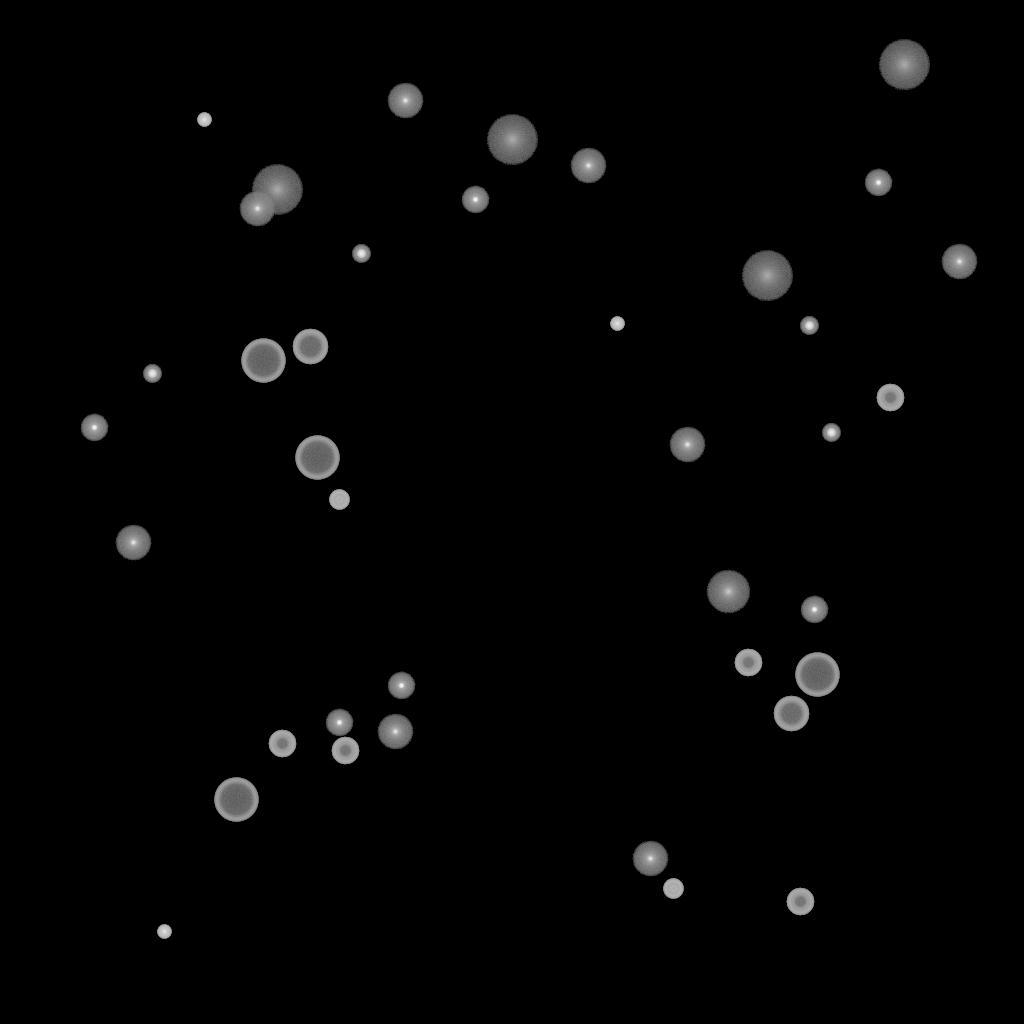depth:-10: (80, 414, 108, 442), (864, 169, 892, 197), (387, 672, 415, 700), (325, 709, 353, 737), (800, 596, 828, 624), (461, 186, 489, 214)
depth:-20: (352, 245, 370, 263), (143, 365, 161, 383), (822, 424, 840, 442), (800, 317, 818, 335)
depth:-30: (197, 113, 211, 127), (157, 925, 171, 939), (610, 317, 624, 331)
depth:-40: (329, 490, 349, 510), (663, 879, 683, 899)
depth:-50: (331, 737, 359, 765), (786, 888, 814, 916), (876, 384, 904, 412), (734, 649, 762, 677), (268, 730, 296, 758)
depth:-60: (773, 696, 809, 732), (292, 329, 328, 365)
depth:-70: (795, 653, 839, 697), (295, 436, 339, 480), (241, 339, 285, 383), (214, 778, 258, 822)
depth:0: (377, 714, 413, 750), (115, 525, 151, 561), (632, 841, 668, 877), (570, 148, 606, 184), (941, 244, 977, 280), (239, 191, 275, 227), (669, 427, 705, 463), (387, 83, 423, 119)
depth:10: (706, 570, 750, 614)
depth:20: (486, 115, 538, 165), (878, 40, 930, 90), (741, 251, 793, 301), (251, 165, 303, 215)
